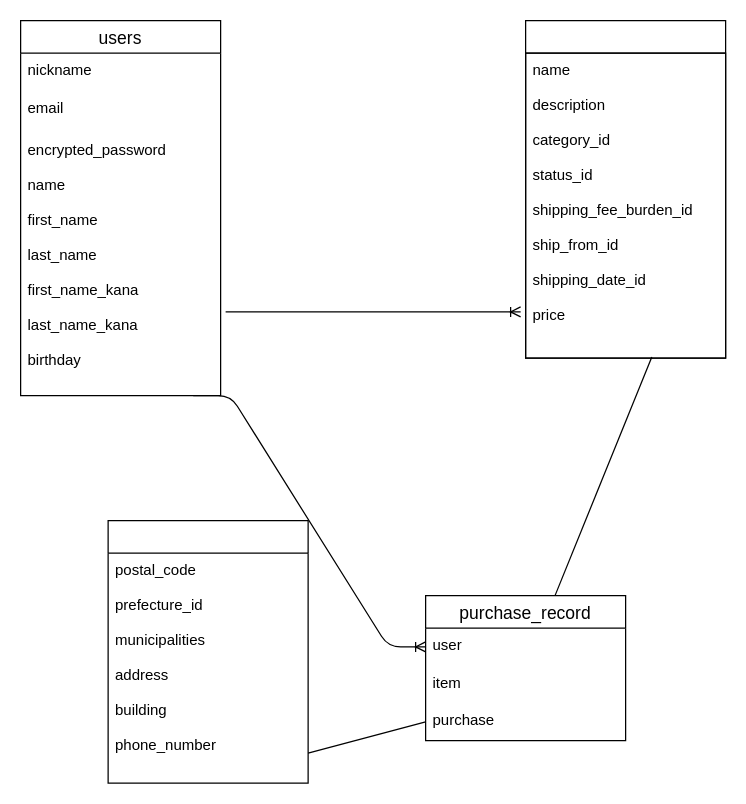
The diagram is 746 pixels wide and 804 high, and some of its shapes have lost their labels. The box of each missing label's shape, as (x1, y1, x2, y2) in pixels:
items: (524, 19, 726, 358)
purchases: (107, 519, 308, 783)
